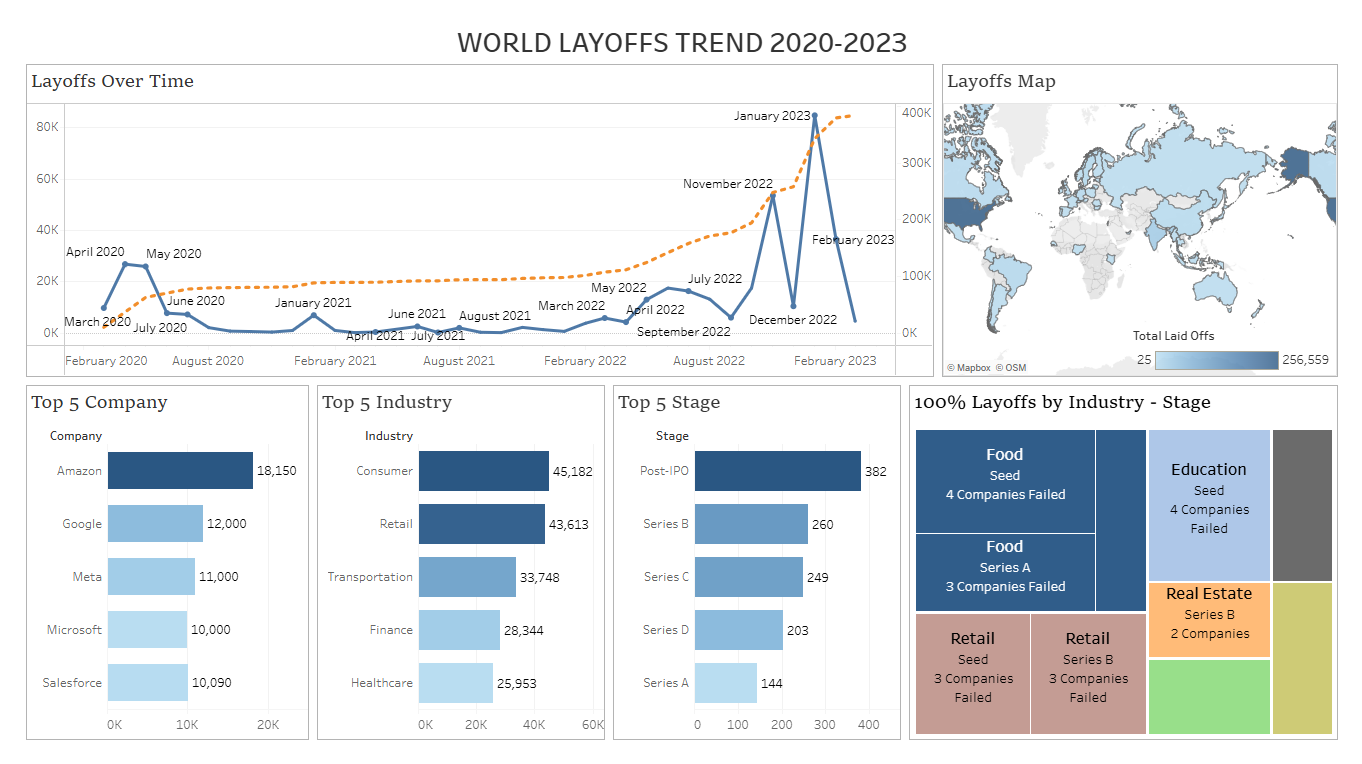

The page's visual inventory and layout, read from the dashboard file:
{"tool":"tableau","page":{"name":"Dashboard","canvas":[1366,768],"ordinal":0},"visuals":[{"type":"text","box":[23,23,1320,38.4]},{"type":"worksheet","title":"Rolling Total","mark":"Line","rows":["total_off","rolling_total"],"cols":["month"],"box":[23,61.4,916,320.8]},{"type":"worksheet","title":"Map Chart","mark":"Multipolygon","box":[939,61.4,404,320.8]},{"type":"legend","title":"Map Chart","param":"[federated.1c8n5ax0moe6up19lar611x1lham].[sum:total_laid_offs:qk]","box":[1134,328,201,46]},{"type":"worksheet","title":"Top 5 Company","mark":"Automatic","rows":["company"],"cols":["total_laid_off"],"box":[23,382.2,291.2,362.8]},{"type":"worksheet","title":"Top 5 Industry","mark":"Automatic","rows":["industry"],"cols":["total_laid_off"],"box":[314.2,382.2,295.8,362.8]},{"type":"worksheet","title":"Top 5 Stage","mark":"Automatic","rows":["stage"],"cols":["count_stage"],"box":[610,382.2,296,362.8]},{"type":"worksheet","title":"Failed Industry","mark":"Automatic","box":[906,382.2,437,362.8]}]}

Visuals, with their boxes in screenshot pixels (x1, y1, x2, y2), scaled from the page's 1366x768 canvas onto the 1362x764 screenshot:
text: [left=23, top=23, right=1339, bottom=61]
"Rolling Total" worksheet (Line marks): [left=23, top=61, right=936, bottom=380]
"Map Chart" worksheet (Multipolygon marks): [left=936, top=61, right=1339, bottom=380]
"Map Chart" legend: [left=1131, top=326, right=1331, bottom=372]
"Top 5 Company" worksheet: [left=23, top=380, right=313, bottom=741]
"Top 5 Industry" worksheet: [left=313, top=380, right=608, bottom=741]
"Top 5 Stage" worksheet: [left=608, top=380, right=903, bottom=741]
"Failed Industry" worksheet: [left=903, top=380, right=1339, bottom=741]
